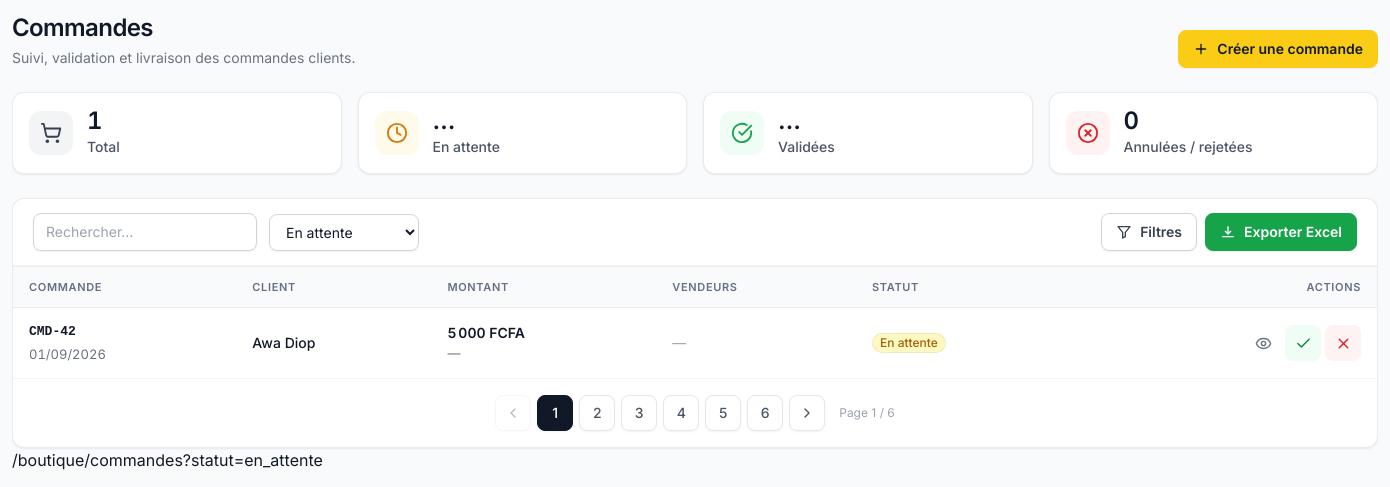
Test case: Commandes : navigation Retour et contexte de liste › pagination : changer de page est conservé dans l’URL
The width and height of the screenshot is (1390, 487).
Expected: the text "CMD-42" is shown, 29,324 -> 76,339
Click the button "3".
click(639, 413)  # box 621,395 -> 657,431
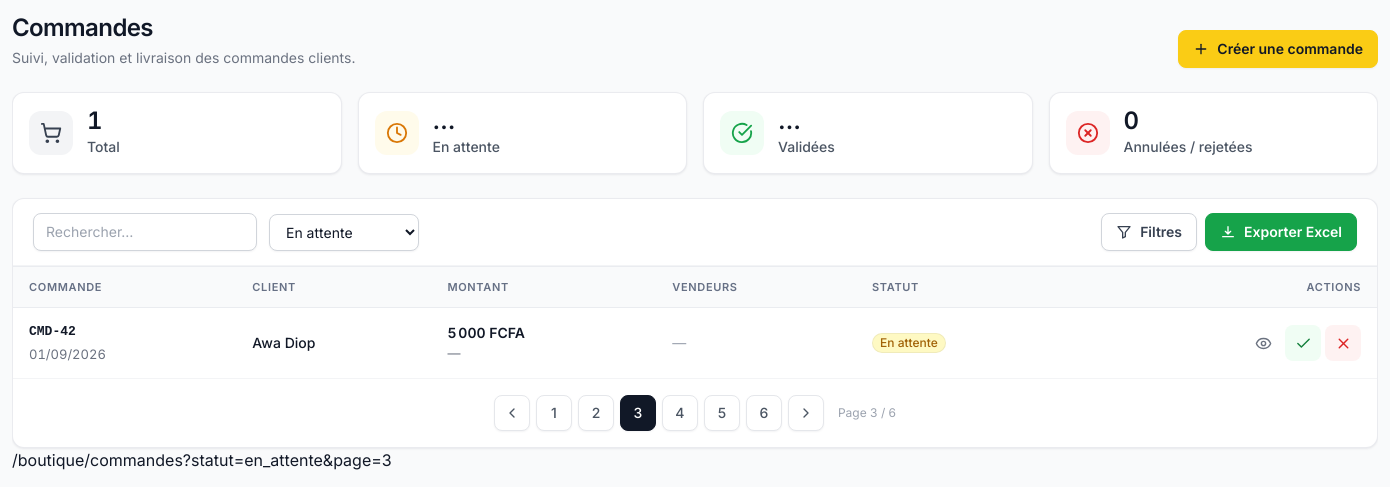
Now the text with test id "adresse" reads "/boutique/commandes?statut=en_attente&page=3", box 12,450 -> 392,470
